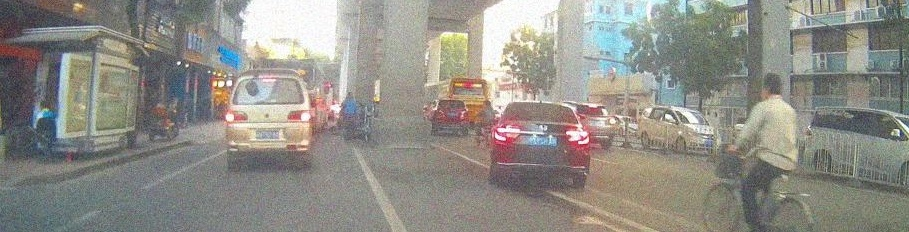L_light: (494, 126, 521, 142), (225, 111, 248, 122)
R_light: (565, 130, 590, 145), (288, 110, 313, 121)
T_light: (533, 103, 549, 107), (262, 78, 277, 82)
day-brake: (225, 68, 314, 170)
day-right: (491, 100, 591, 188)
